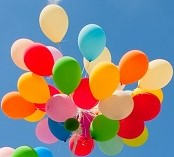Balloon: (39, 4, 69, 43), (138, 59, 173, 91), (89, 63, 119, 99), (99, 91, 135, 120), (78, 24, 106, 61), (119, 50, 148, 85), (1, 91, 38, 118), (18, 73, 50, 104), (24, 44, 54, 76), (45, 94, 80, 120), (90, 115, 119, 141), (70, 132, 94, 156), (65, 118, 79, 131)
